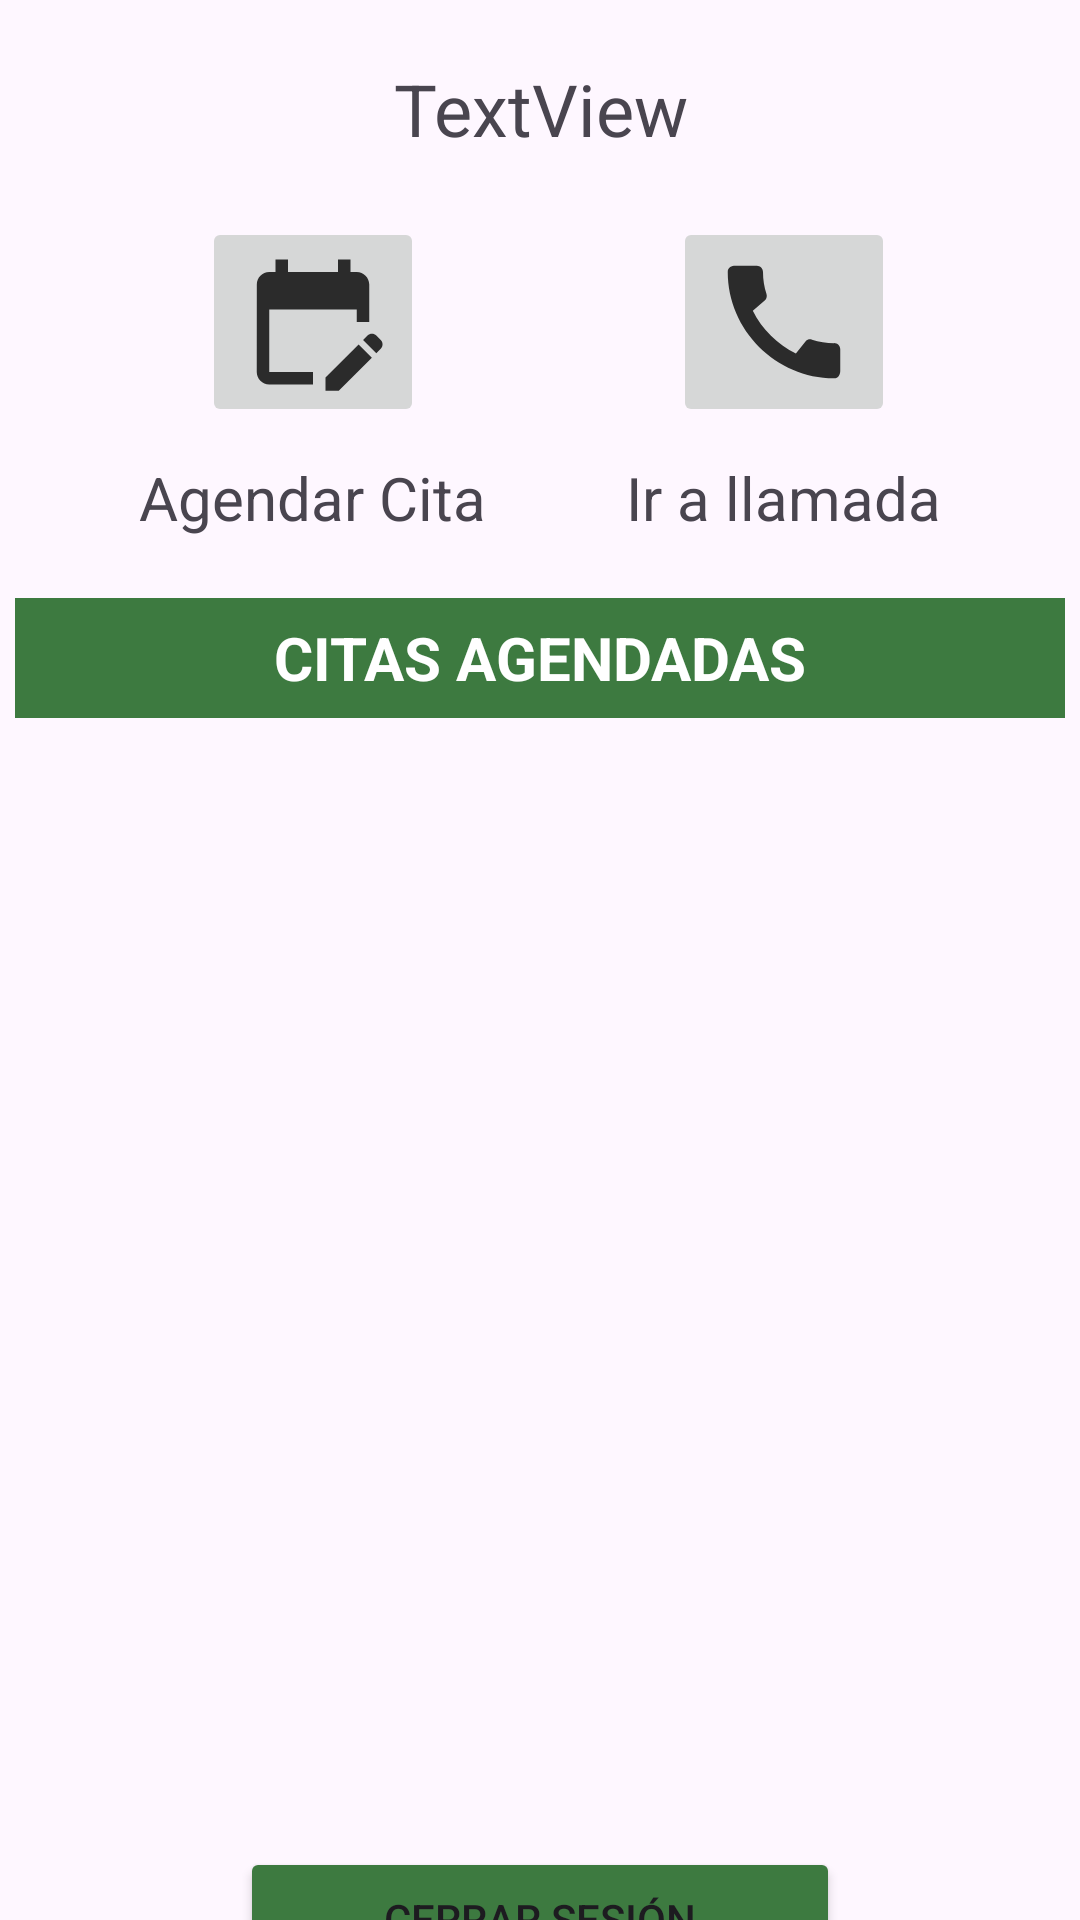

Named icons in this screenshot (1080 × 1920) and their centers, point (x, y):
editcalendar: point (313, 322)
